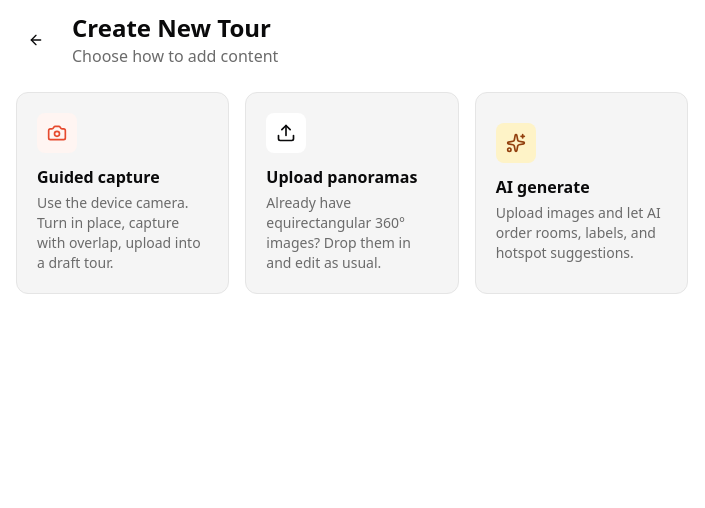
Test case: TourCreatePage manual upload › does not treat an empty upload list as a successful tour
Click the button "Upload panoramas" at [352, 193], box [245,92,459,294]
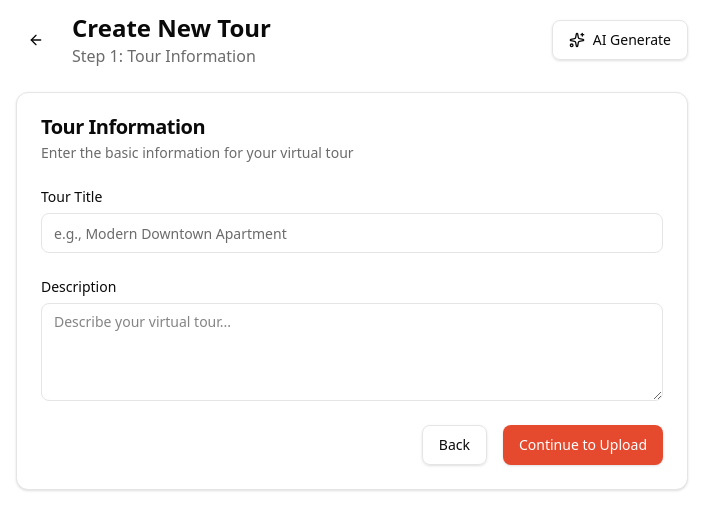
Type "Manual Draft" into the field labelled "Tour Title" at [352, 233], box [41,213,663,253]
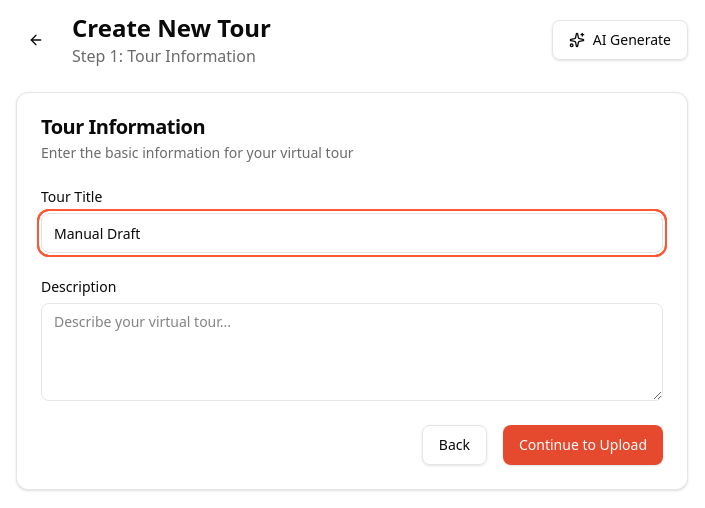
Click the button "Continue to Upload" at [583, 445], box [503,425,663,465]
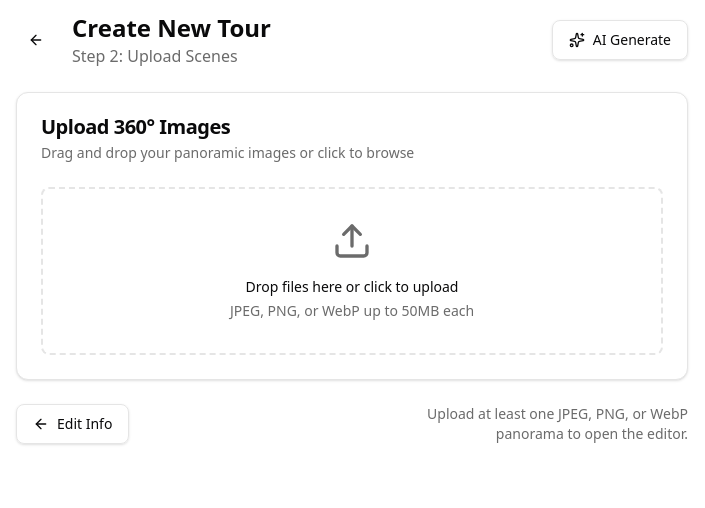
Check: the heading "Upload 360° Images" is shown, box [41,113,230,140]
Check: the text with test id "upload-continue-hint" is shown, box [427,404,688,443]
